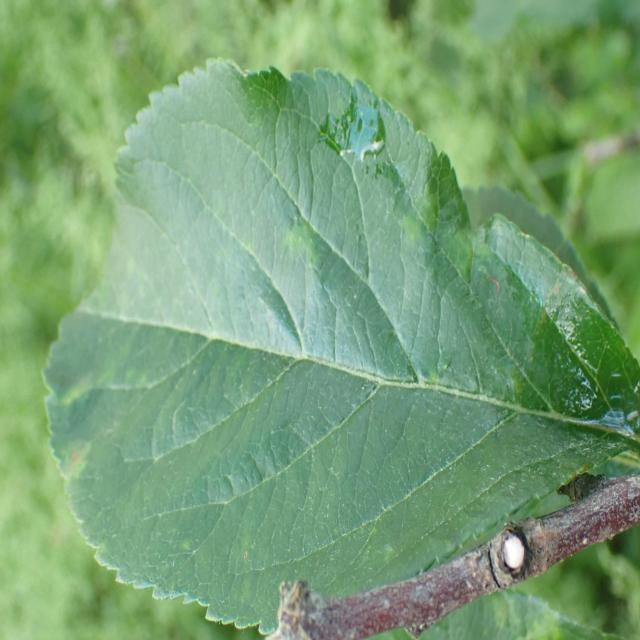scab: (47, 195, 584, 550)
